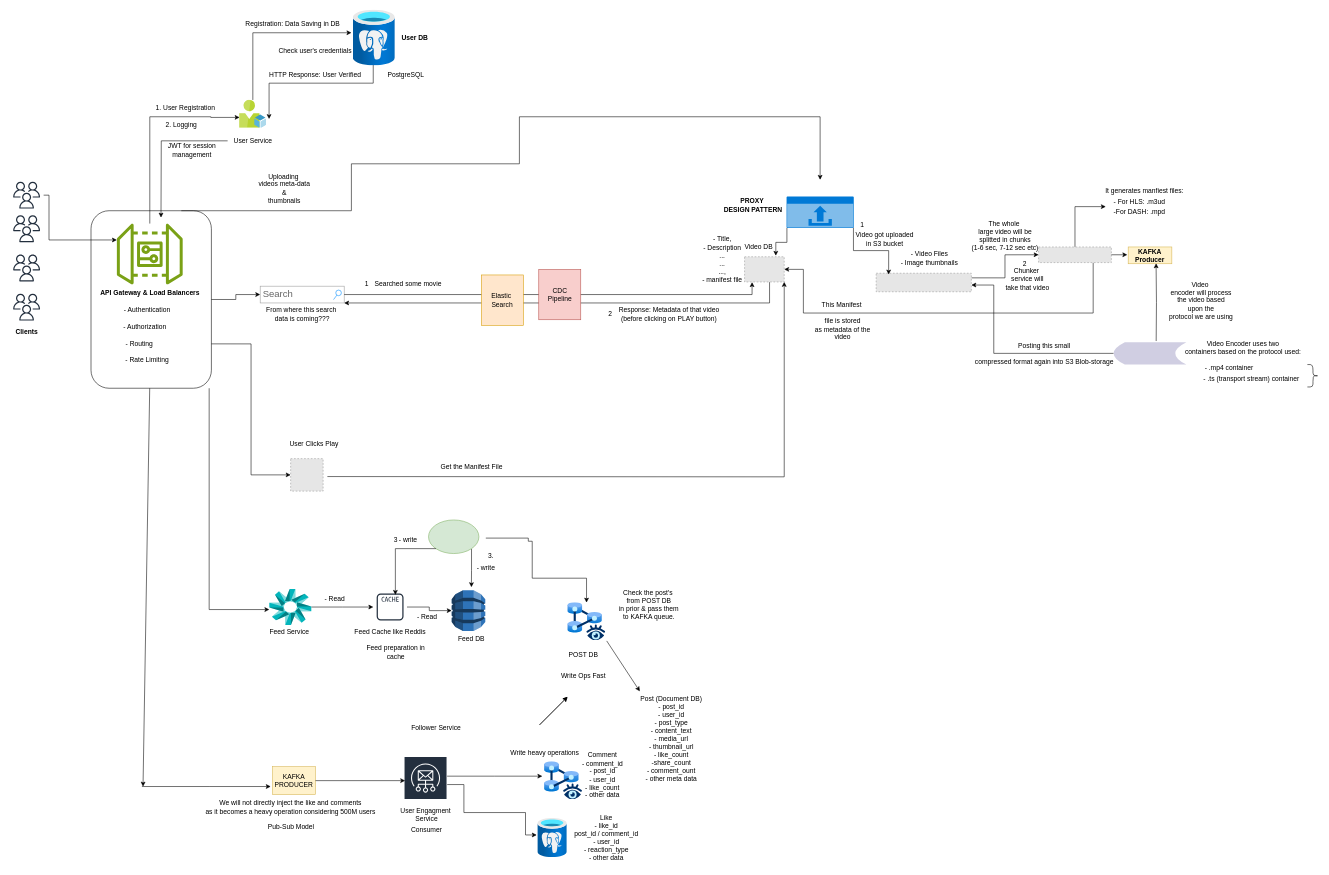
Image size: 1329x875. Some labels were removed from this diagram. Grey dashed boxes stand in for pictures. Here are the shapes that lost their labels. From the top down, the centre of each, then its label:
[819,212]: Upload
[1149,353]: Video Encoder
[453,536]: Fanout Model
